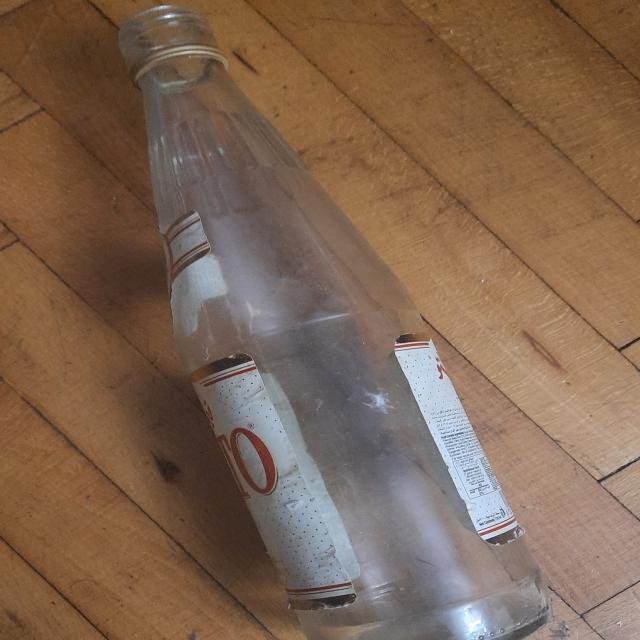glass: (116, 4, 552, 640)
